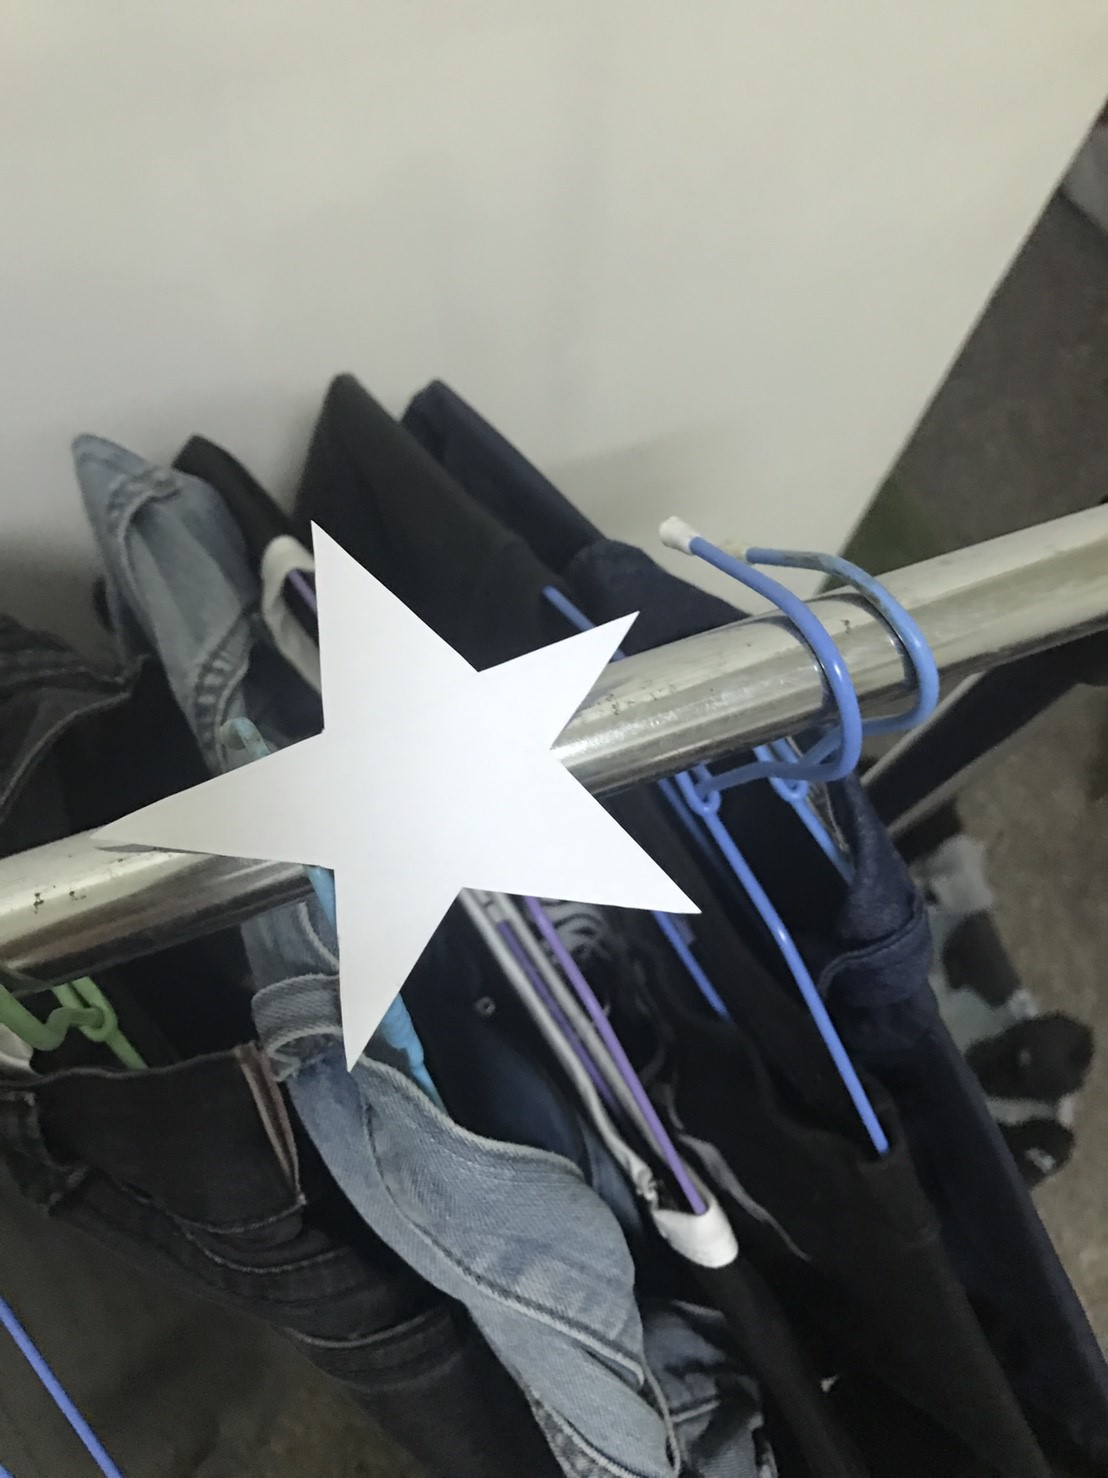star: (74, 490, 841, 1078)
